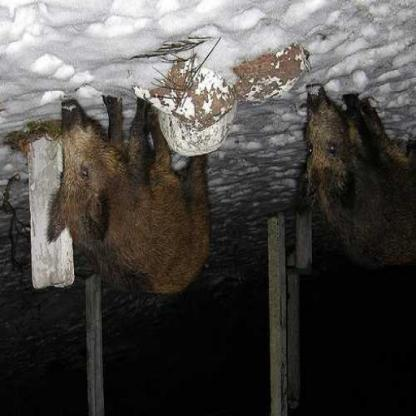boar: (19, 75, 234, 297), (269, 94, 415, 283)
